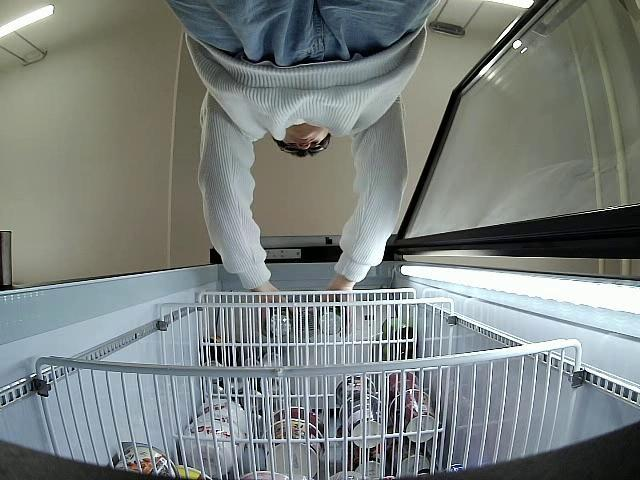18_trevi: (270, 310, 296, 338), (318, 306, 342, 333)
